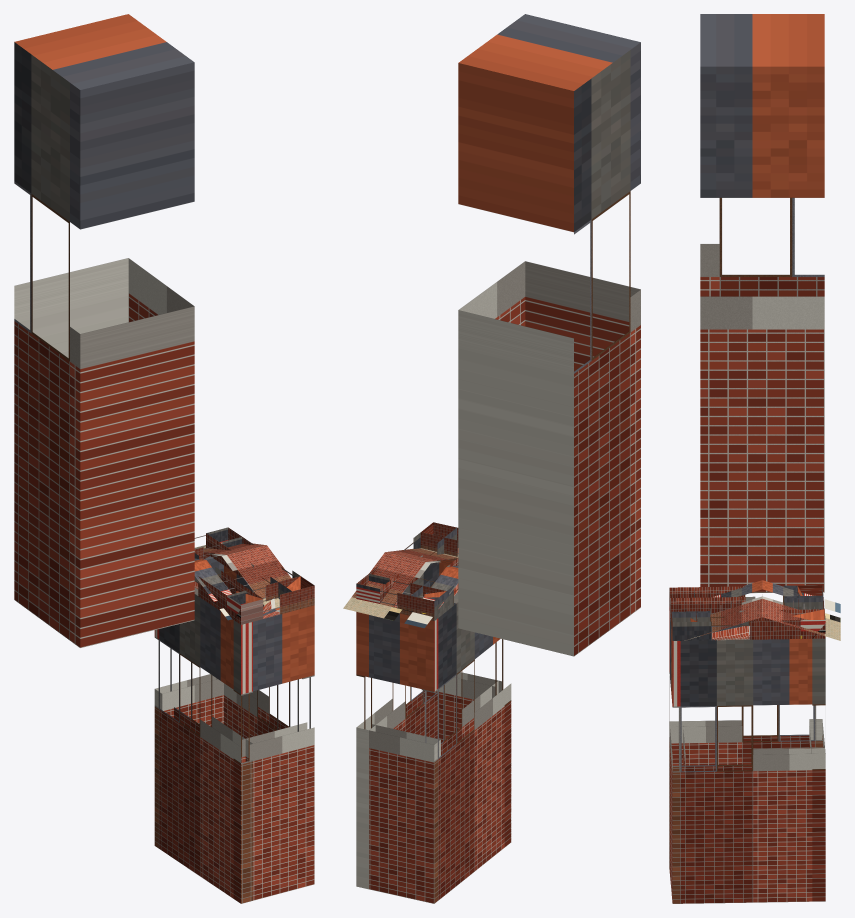
3 renders of one model, left to right at view 1: azimuth 30°, elevation 25°; view 2: azimuth 150°, elevation 25°; view 3: azimuth 270°, elevation 25°, orthographic. The views are drawn at different scales.
Visible parts, largest first — view 1: 535007142__chimney_0_xb, 535007142__wall_0_xb, 535007142__wall_1_xb, 535007142_roof_-1_xb, 535007142__wall_2_xb, 535007142__wall_3_xb, 535007142__cornice_1, 535007142__cornice_0, 535007142__cornice_2; view 2: 535007142__chimney_0_xb, 535007142__wall_3_xb, 535007142__wall_0_xb, 535007142__wall_2_xb, 535007142__wall_1_xb, 535007142_roof_1_xb, 535007142__cornice_3, 535007142__cornice_2, 535007142__cornice_1, 535007142__cornice_0, 535007142_roof_-1_xb; view 3: 535007142__chimney_0_xb, 535007142__wall_2_xb, 535007142__wall_0_xb, 535007142__cornice_2, 535007142__wall_3_xb, 535007142__cornice_0, 535007142_roof_1_xb, 535007142_roof_-1_xb, 535007142__wall_1_xb, 535007142__cornice_3.
Part boxes in pixels (x1=…): 535007142__chimney_0_xb: x1=14, y1=14, x2=194, y2=647; 535007142__wall_0_xb: x1=154, y1=587, x2=252, y2=903; 535007142__wall_1_xb: x1=233, y1=605, x2=314, y2=903; 535007142_roof_-1_xb: x1=194, y1=545, x2=291, y2=620; 535007142__wall_2_xb: x1=216, y1=565, x2=314, y2=738; 535007142__wall_3_xb: x1=154, y1=556, x2=223, y2=726; 535007142__cornice_1: x1=227, y1=576, x2=314, y2=619; 535007142__cornice_0: x1=194, y1=553, x2=263, y2=624; 535007142__cornice_2: x1=206, y1=527, x2=299, y2=599; 535007142__chimney_0_xb: x1=458, y1=14, x2=640, y2=656; 535007142__wall_3_xb: x1=356, y1=613, x2=440, y2=903; 535007142__wall_0_xb: x1=421, y1=591, x2=511, y2=903; 535007142__wall_2_xb: x1=356, y1=562, x2=439, y2=889; 535007142__wall_1_xb: x1=426, y1=548, x2=511, y2=847; 535007142_roof_1_xb: x1=343, y1=552, x2=458, y2=627; 535007142__cornice_3: x1=369, y1=574, x2=446, y2=620; 535007142__cornice_2: x1=356, y1=528, x2=456, y2=603; 535007142__cornice_1: x1=420, y1=522, x2=458, y2=559; 535007142__cornice_0: x1=411, y1=558, x2=458, y2=620; 535007142_roof_-1_xb: x1=385, y1=548, x2=458, y2=569; 535007142__chimney_0_xb: x1=700, y1=14, x2=824, y2=592; 535007142__wall_2_xb: x1=672, y1=637, x2=825, y2=903; 535007142__wall_0_xb: x1=669, y1=607, x2=822, y2=873; 535007142__cornice_2: x1=671, y1=609, x2=825, y2=640; 535007142__wall_3_xb: x1=809, y1=638, x2=825, y2=901; 535007142__cornice_0: x1=669, y1=585, x2=823, y2=616; 535007142_roof_1_xb: x1=762, y1=580, x2=840, y2=640; 535007142_roof_-1_xb: x1=684, y1=580, x2=762, y2=640; 535007142__wall_1_xb: x1=669, y1=614, x2=685, y2=902; 535007142__cornice_3: x1=797, y1=585, x2=825, y2=638.
Bounding box in the file's own units: 0.2884 × 1.05 × 0.2063.
1 material, 1 textured.
